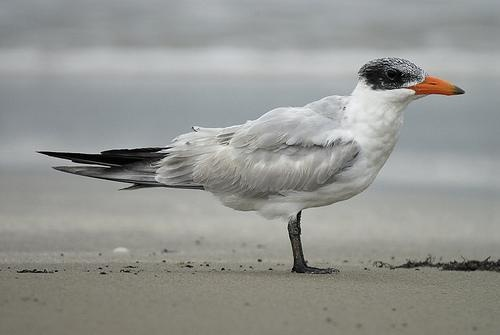bird: (34, 57, 465, 274)
